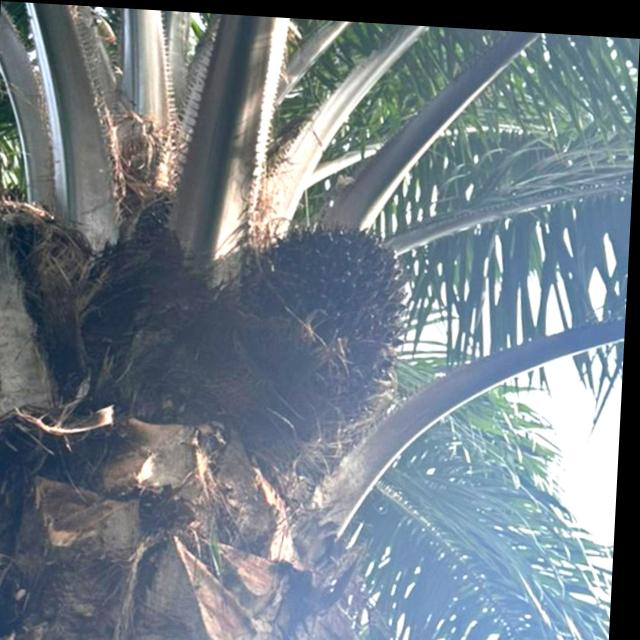almost: (234, 207, 421, 419)
